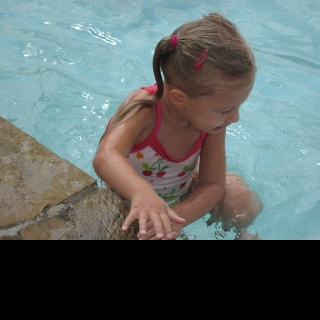without_mask: (186, 75, 255, 133)
